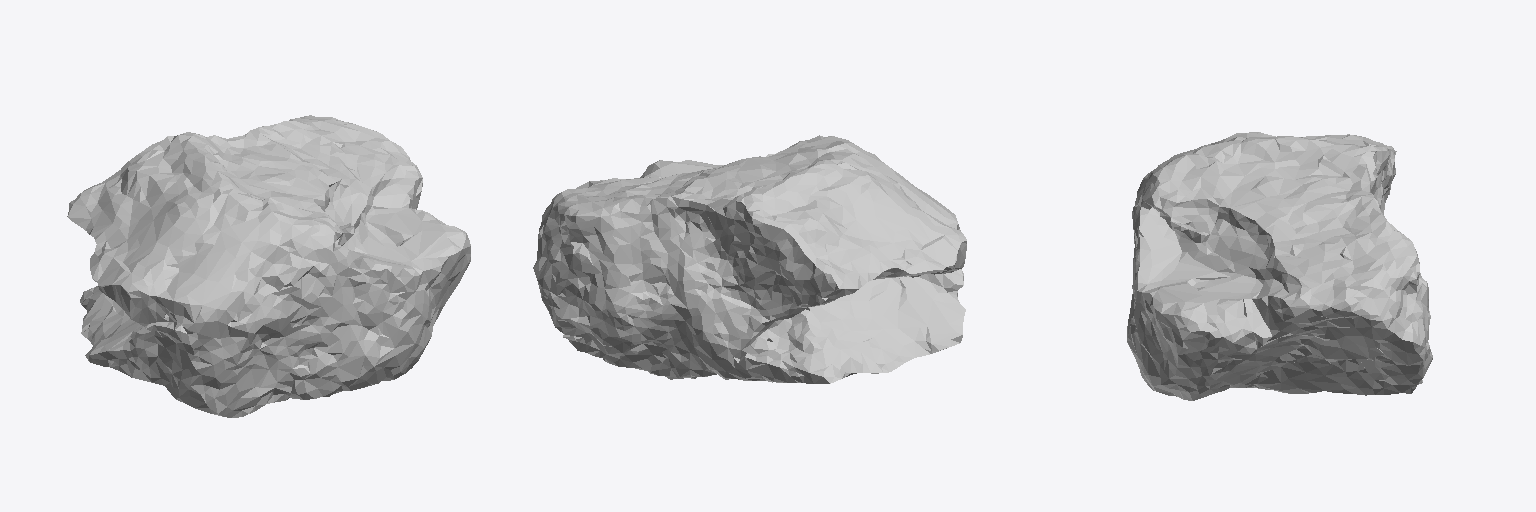
Rendered from Rock2.obj.
3 renders of one model, left to right at view 1: azimuth 30°, elevation 25°; view 2: azimuth 150°, elevation 25°; view 3: azimuth 270°, elevation 25°, orthographic.
Visible parts, largest first — view 1: moss_rock_12; view 2: moss_rock_12; view 3: moss_rock_12.
Part boxes in pixels (left/top/right/bottom): moss_rock_12: left=67, top=115, right=470, bottom=417; moss_rock_12: left=533, top=135, right=966, bottom=383; moss_rock_12: left=1127, top=132, right=1432, bottom=400.
Bounding box in the file's own units: 1.97 × 1.02 × 1.44.